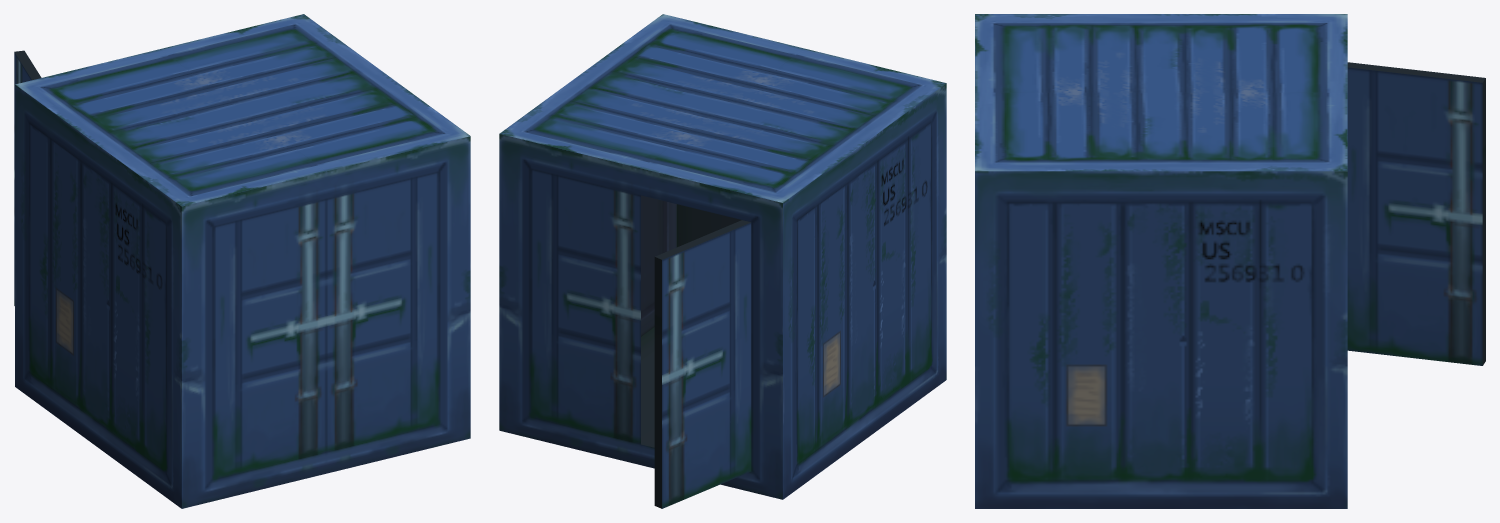
Rendered from wj_JZX03.FBX.
The picture shows the model from 3 angles, left to right: view 1: azimuth 30°, elevation 25°; view 2: azimuth 150°, elevation 25°; view 3: azimuth 270°, elevation 25°; orthographic projection. The views are drawn at different scales.
Visible parts, largest first — view 1: wj_JZX03; view 2: wj_JZX03; view 3: wj_JZX03.
Boxes of the visible parts, <box> form: wj_JZX03: <box>14,14,470,508</box>; wj_JZX03: <box>499,14,946,508</box>; wj_JZX03: <box>975,14,1485,508</box>.
Bounding box in the file's own units: 150 × 206 × 150.
